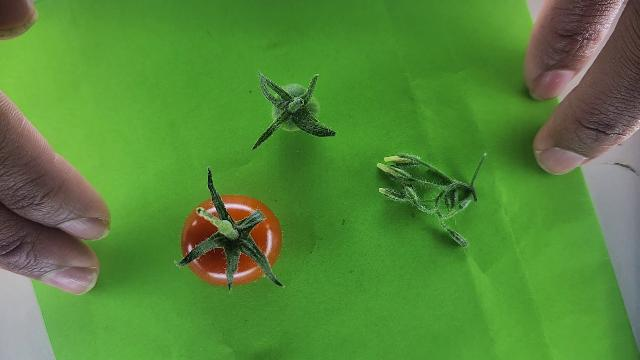Flower Bud: (445, 227, 471, 249), (444, 187, 457, 212), (457, 194, 473, 211), (377, 162, 397, 173), (379, 187, 389, 194)
Fruit Bud: (217, 220, 234, 236)
Fruit Maturation: (272, 84, 319, 130)
Fully Grown: (177, 191, 288, 289)
